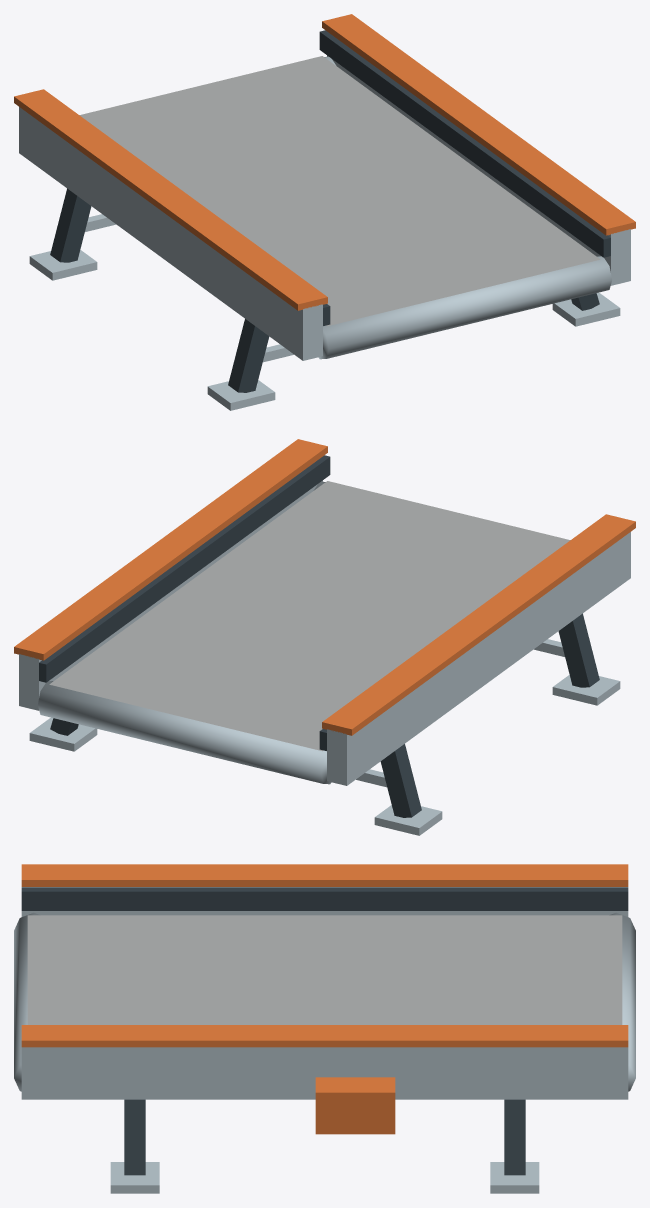
File: conveyor.glb
The picture shows the model from 3 angles, top to bottom: view 1: azimuth 30°, elevation 25°; view 2: azimuth 150°, elevation 25°; view 3: azimuth 270°, elevation 25°; orthographic projection. The views are drawn at different scales.
Visible parts, largest first — view 1: Belt, conveyor_metal, conveyor_orange, conveyor_dark; view 2: Belt, conveyor_metal, conveyor_orange, conveyor_dark; view 3: Belt, conveyor_metal, conveyor_orange, conveyor_dark.
Boxes of the visible parts, x1,y1,x2,y2 form: Belt: (79,56,600,326); conveyor_metal: (19,55,630,410); conveyor_orange: (14,14,635,310); conveyor_dark: (50,30,610,392); Belt: (49,481,570,751); conveyor_metal: (19,480,630,835); conveyor_orange: (14,439,635,735); conveyor_dark: (39,455,599,817); Belt: (27,915,622,1024); conveyor_metal: (14,887,635,1193); conveyor_orange: (21,864,628,1134); conveyor_dark: (21,887,628,1175).
Size of the model in its own units: 1.59 by 0.5025 by 2.03.
